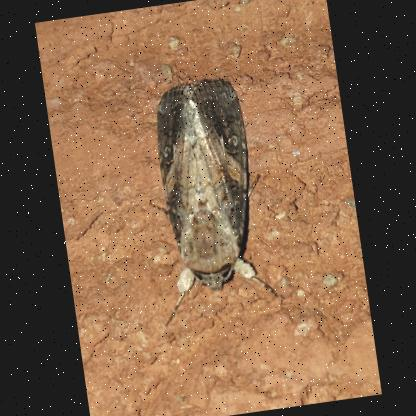Fall Armyworm Moth: (129, 67, 288, 329)
